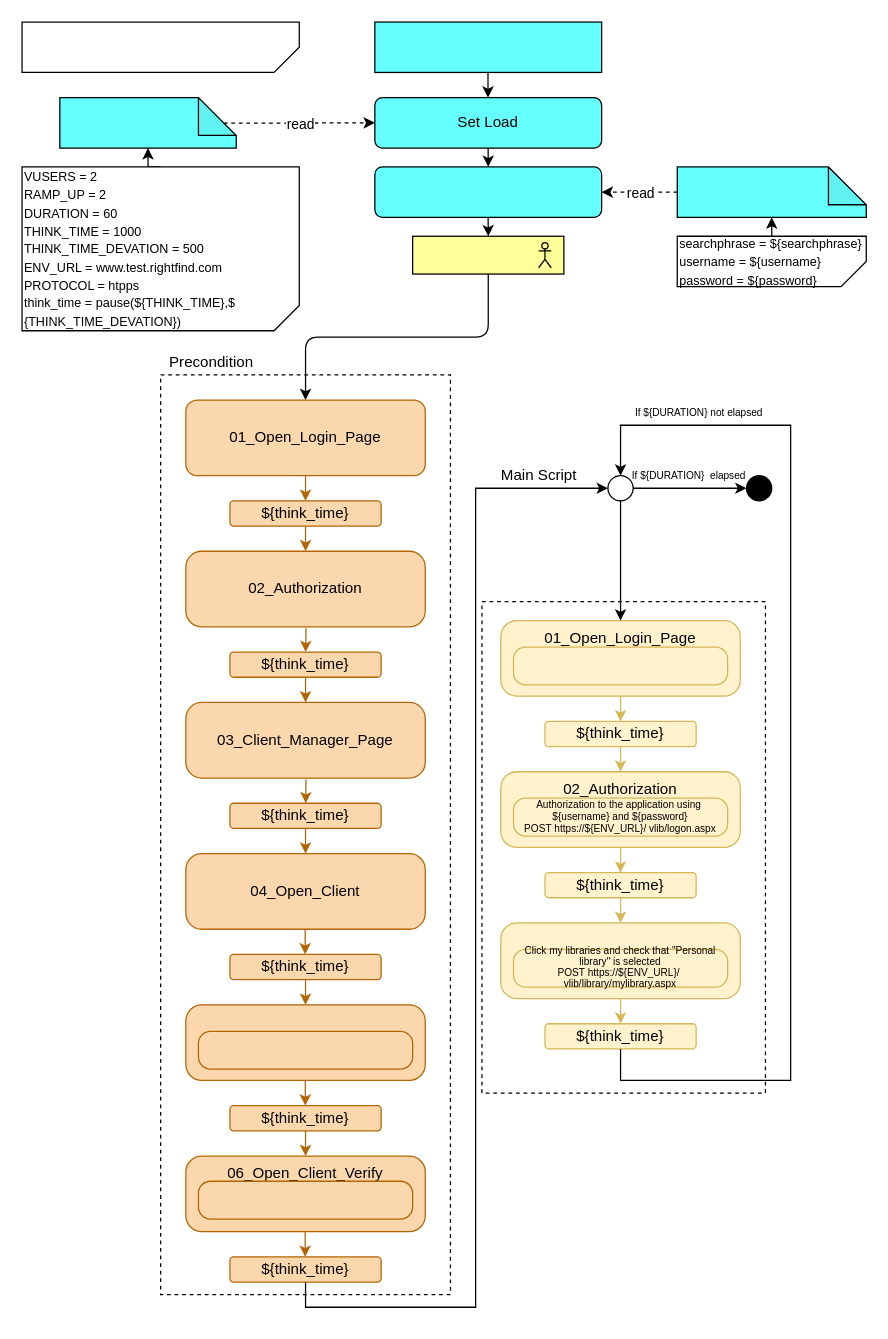
The diagram is 888 pixels wide and 1339 high, and some of its shapes have lost their labels. The shapes that lost their labels are listed below. From the top down, each one's box as (x1, y1, x2, y2) in pixels, then its label:
(21, 21, 299, 72): 2_2_RFE_UI_Opening_Libraries_With_ Big_Number_Of_Documents
(374, 21, 602, 72): Start Test
(59, 96, 236, 148): Load Model
(374, 166, 602, 217): Set Test Data
(676, 166, 866, 217): Test Data
(411, 235, 564, 274): vUser
(512, 646, 728, 685): Open application main page - GET https://${ENV_URL}/
(500, 922, 740, 999): 03_Open_My_Libraries
(185, 1004, 425, 1080): 05_Client_Update
(197, 1030, 413, 1069): "RightFind Insight" check "Full-text Search" check "Semantic Search" uncheck
(197, 1180, 413, 1219): Verify Precondition setup
